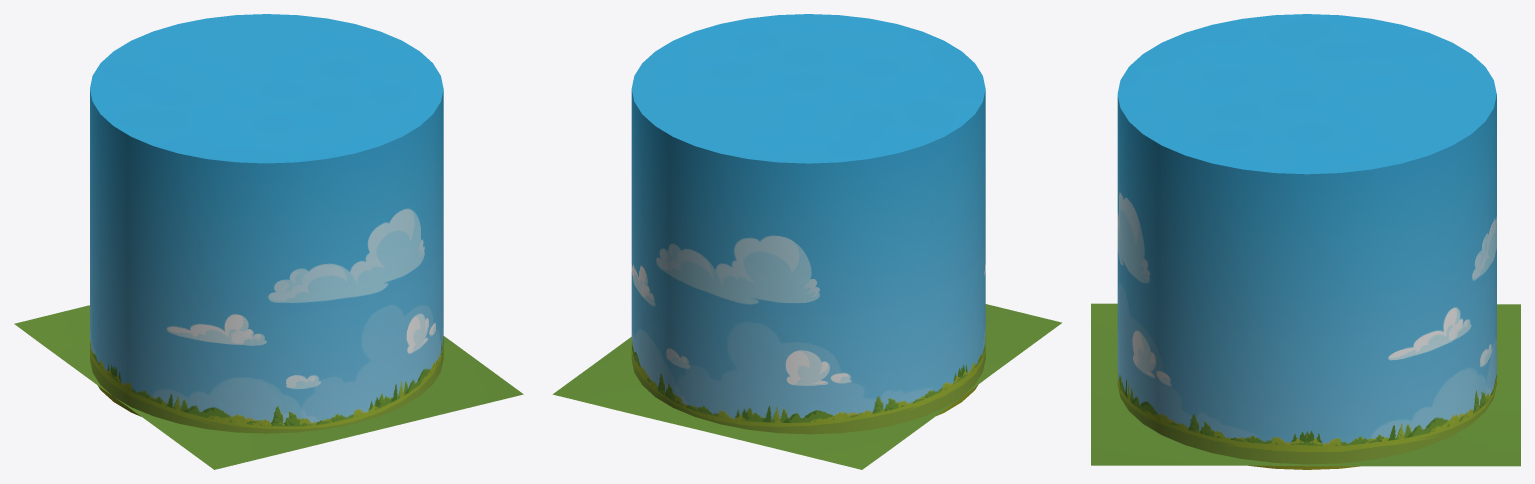
The model's file is map dap chuot remake.fbx.
3 views of the same model, side by side, from view 1: azimuth 30°, elevation 25°; view 2: azimuth 150°, elevation 25°; view 3: azimuth 270°, elevation 25° (orthographic). The views are drawn at different scales.
Parts seen in each view (by area): view 1: back_field, dat; view 2: back_field, dat; view 3: back_field, dat.
Boxes of the visible parts, <box> form: back_field: <box>90,14,443,433</box>; dat: <box>14,305,523,469</box>; back_field: <box>631,14,985,434</box>; dat: <box>552,304,1061,469</box>; back_field: <box>1117,14,1496,469</box>; dat: <box>1091,303,1520,466</box>.
Size of the model in its own units: 8217 by 7037 by 9210.
2 materials, 2 textured.
